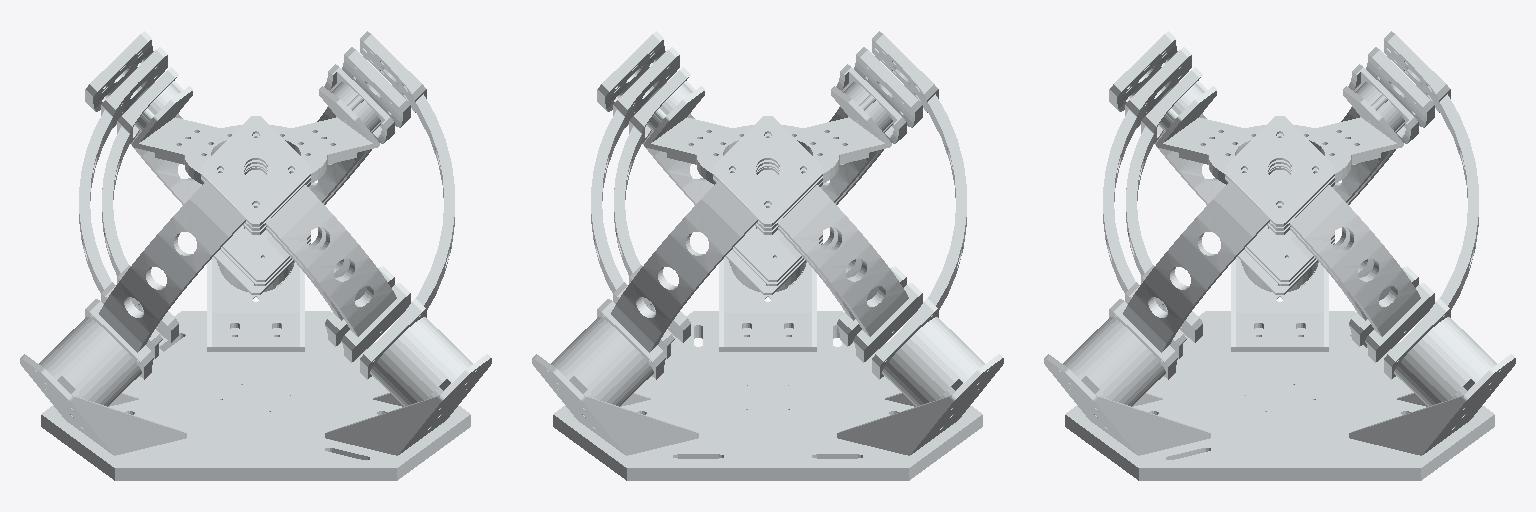
robot.urdf — Spherical_Parallel_urdf_2:
<?xml version="1.0" encoding="utf-8"?>
<!-- This URDF was automatically created by SolidWorks to URDF Exporter! Originally created by [author] ([email redacted]) 
     Commit Version: 1.6.0-4-g7f85cfe  Build Version: 1.6.7995.38578
     For more information, please see http://wiki.ros.org/sw_urdf_exporter -->
<robot
  name="Spherical_Parallel_urdf_2">
  <link
    name="base_link">
    <inertial>
      <origin
        xyz="-5.68297642564601E-06 9.84320252937487E-06 -0.0872774523069918"
        rpy="0 0 0" />
      <mass
        value="0.383954508133489" />
      <inertia
        ixx="0.000279103390586857"
        ixy="-3.02891552499976E-06"
        ixz="1.65209476752792E-17"
        iyy="0.000282600880973714"
        iyz="1.43034423383472E-16"
        izz="0.000538960992417047" />
    </inertial>
    <visual>
      <origin
        xyz="0 0 0"
        rpy="0 0 0" />
      <geometry>
        <mesh
          filename="package://Spherical_Parallel_urdf_2/meshes/base_link.STL" />
      </geometry>
      <material
        name="">
        <color
          rgba="0.898039215686275 0.917647058823529 0.929411764705882 1" />
      </material>
    </visual>
    <collision>
      <origin
        xyz="0 0 0"
        rpy="0 0 0" />
      <geometry>
        <mesh
          filename="package://Spherical_Parallel_urdf_2/meshes/base_link.STL" />
      </geometry>
    </collision>
  </link>
  <link
    name="motor-outer_1_Link">
    <inertial>
      <origin
        xyz="-0.0279702978737272 0.0279671136932665 0.0289452106202467"
        rpy="0 0 0" />
      <mass
        value="0.0355687201353505" />
      <inertia
        ixx="4.55330974036119E-05"
        ixy="1.39328327243376E-05"
        ixz="1.87351841361269E-05"
        iyy="4.55331004395391E-05"
        iyz="-1.87351839056134E-05"
        izz="3.20931896682085E-05" />
    </inertial>
    <visual>
      <origin
        xyz="0 0 0"
        rpy="0 0 0" />
      <geometry>
        <mesh
          filename="package://Spherical_Parallel_urdf_2/meshes/motor-outer_1_Link.STL" />
      </geometry>
      <material
        name="">
        <color
          rgba="0.898039215686275 0.917647058823529 0.929411764705882 1" />
      </material>
    </visual>
    <collision>
      <origin
        xyz="0 0 0"
        rpy="0 0 0" />
      <geometry>
        <mesh
          filename="package://Spherical_Parallel_urdf_2/meshes/motor-outer_1_Link.STL" />
      </geometry>
    </collision>
  </link>
  <joint
    name="motor-outer_1_joint"
    type="revolute">
    <origin
      xyz="-0.0569492112135548 0 -0.0604289433359291"
      rpy="0.955316618124508 0 1.5707963267949" />
    <parent
      link="base_link" />
    <child
      link="motor-outer_1_Link" />
    <axis
      xyz="0 0 -1" />
    <limit
      lower="0"
      upper="0"
      effort="0"
      velocity="0" />
  </joint>
  <link
    name="outer-middle_1_Link">
    <inertial>
      <origin
        xyz="0.00283636498049721 -0.0248626892784849 0.022301696540047"
        rpy="0 0 0" />
      <mass
        value="0.0723708688376402" />
      <inertia
        ixx="7.27702590863178E-05"
        ixy="4.74032426011922E-06"
        ixz="-7.64728524818734E-06"
        iyy="7.27911979741834E-05"
        iyz="2.98123690823537E-05"
        izz="5.34836998471512E-05" />
    </inertial>
    <visual>
      <origin
        xyz="0 0 0"
        rpy="0 0 0" />
      <geometry>
        <mesh
          filename="package://Spherical_Parallel_urdf_2/meshes/outer-middle_1_Link.STL" />
      </geometry>
      <material
        name="">
        <color
          rgba="0.752941176470588 0.752941176470588 0.752941176470588 1" />
      </material>
    </visual>
    <collision>
      <origin
        xyz="0 0 0"
        rpy="0 0 0" />
      <geometry>
        <mesh
          filename="package://Spherical_Parallel_urdf_2/meshes/outer-middle_1_Link.STL" />
      </geometry>
    </collision>
  </link>
  <joint
    name="outer-middle_1_joint"
    type="fixed">
    <origin
      xyz="-0.0436751198339819 0.0436152645408619 0.0697447702137679"
      rpy="1.5707963267949 0.785398163397447 0.78539816339745" />
    <parent
      link="motor-outer_1_Link" />
    <child
      link="outer-middle_1_Link" />
    <axis
      xyz="0 0 0" />
  </joint>
  <link
    name="middle-inner_1_Link">
    <inertial>
      <origin
        xyz="0.0242677966072107 0.0242591406201896 0.0202122616414055"
        rpy="0 0 0" />
      <mass
        value="0.0537220399932187" />
      <inertia
        ixx="4.61565737480677E-05"
        ixy="-1.25048330161379E-05"
        ixz="-1.83387735714732E-05"
        iyy="4.61717245910329E-05"
        iyz="-1.83239692401646E-05"
        izz="3.19211378815336E-05" />
    </inertial>
    <visual>
      <origin
        xyz="0 0 0"
        rpy="0 0 0" />
      <geometry>
        <mesh
          filename="package://Spherical_Parallel_urdf_2/meshes/middle-inner_1_Link.STL" />
      </geometry>
      <material
        name="">
        <color
          rgba="0.898039215686275 0.917647058823529 0.929411764705882 1" />
      </material>
    </visual>
    <collision>
      <origin
        xyz="0 0 0"
        rpy="0 0 0" />
      <geometry>
        <mesh
          filename="package://Spherical_Parallel_urdf_2/meshes/middle-inner_1_Link.STL" />
      </geometry>
    </collision>
  </link>
  <joint
    name="middle-inner_1_joint"
    type="revolute">
    <origin
      xyz="-0.037784044005556 -0.0377840491370093 0.0616819094932876"
      rpy="-1.5707963267949 0.785398163397451 -0.78539816339745" />
    <parent
      link="outer-middle_1_Link" />
    <child
      link="middle-inner_1_Link" />
    <axis
      xyz="0 0 1" />
    <limit
      lower="0"
      upper="0"
      effort="0"
      velocity="0" />
  </joint>
  <link
    name="inner_plain_1_Link">
    <inertial>
      <origin
        xyz="-0.0120772136557564 -0.00746773842422029 0.0292678804633679"
        rpy="0 0 0" />
      <mass
        value="0.050962086383897" />
      <inertia
        ixx="2.39433800182525E-05"
        ixy="-4.5045823118561E-06"
        ixz="7.24882819167433E-06"
        iyy="2.72515631273431E-05"
        iyz="5.01816774594607E-06"
        izz="1.94036063952986E-05" />
    </inertial>
    <visual>
      <origin
        xyz="0 0 0"
        rpy="0 0 0" />
      <geometry>
        <mesh
          filename="package://Spherical_Parallel_urdf_2/meshes/inner_plain_1_Link.STL" />
      </geometry>
      <material
        name="">
        <color
          rgba="0.898039215686275 0.917647058823529 0.929411764705882 1" />
      </material>
    </visual>
    <collision>
      <origin
        xyz="0 0 0"
        rpy="0 0 0" />
      <geometry>
        <mesh
          filename="package://Spherical_Parallel_urdf_2/meshes/inner_plain_1_Link.STL" />
      </geometry>
    </collision>
  </link>
  <joint
    name="inner_plain_1_joint"
    type="revolute">
    <origin
      xyz="0.0385044783159451 0.0385044810720595 0.0534747929012819"
      rpy="1.5707963267949 -0.785398163397449 -0.785398163397451" />
    <parent
      link="middle-inner_1_Link" />
    <child
      link="inner_plain_1_Link" />
    <axis
      xyz="0 0 1" />
    <limit
      lower="0"
      upper="0"
      effort="0"
      velocity="0" />
  </joint>
  <link
    name="motor-outer_2_Link">
    <inertial>
      <origin
        xyz="-0.0279729721249746 0.0279669074734735 0.0289452252977078"
        rpy="0 0 0" />
      <mass
        value="0.0355687278615816" />
      <inertia
        ixx="4.55331004955151E-05"
        ixy="1.3932833427438E-05"
        ixz="1.87351801783838E-05"
        iyy="4.55331035823945E-05"
        iyz="-1.87351909884961E-05"
        izz="3.20931921783928E-05" />
    </inertial>
    <visual>
      <origin
        xyz="0 0 0"
        rpy="0 0 0" />
      <geometry>
        <mesh
          filename="package://Spherical_Parallel_urdf_2/meshes/motor-outer_2_Link.STL" />
      </geometry>
      <material
        name="">
        <color
          rgba="0.898039215686275 0.917647058823529 0.929411764705882 1" />
      </material>
    </visual>
    <collision>
      <origin
        xyz="0 0 0"
        rpy="0 0 0" />
      <geometry>
        <mesh
          filename="package://Spherical_Parallel_urdf_2/meshes/motor-outer_2_Link.STL" />
      </geometry>
    </collision>
  </link>
  <joint
    name="motor-outer_2_joint"
    type="revolute">
    <origin
      xyz="0.028473875650204 -0.0493200339357943 -0.0604287610219433"
      rpy="0.955316618124507 0 -2.6179938779915" />
    <parent
      link="base_link" />
    <child
      link="motor-outer_2_Link" />
    <axis
      xyz="0 0 -1" />
    <limit
      lower="0"
      upper="0"
      effort="0"
      velocity="0" />
  </joint>
  <link
    name="outer-middle_2_Link">
    <inertial>
      <origin
        xyz="0.00283637152699381 -0.0248626991281976 0.0223016909464008"
        rpy="0 0 0" />
      <mass
        value="0.072370813478773" />
      <inertia
        ixx="7.2770262104839E-05"
        ixy="4.74032910672147E-06"
        ixz="-7.64729389425127E-06"
        iyy="7.27911814454562E-05"
        iyz="2.98123634953447E-05"
        izz="5.34836949402528E-05" />
    </inertial>
    <visual>
      <origin
        xyz="0 0 0"
        rpy="0 0 0" />
      <geometry>
        <mesh
          filename="package://Spherical_Parallel_urdf_2/meshes/outer-middle_2_Link.STL" />
      </geometry>
      <material
        name="">
        <color
          rgba="0.752941176470588 0.752941176470588 0.752941176470588 1" />
      </material>
    </visual>
    <collision>
      <origin
        xyz="0 0 0"
        rpy="0 0 0" />
      <geometry>
        <mesh
          filename="package://Spherical_Parallel_urdf_2/meshes/outer-middle_2_Link.STL" />
      </geometry>
    </collision>
  </link>
  <joint
    name="outer-middle_2_joint"
    type="fixed">
    <origin
      xyz="-0.0436777957822839 0.0436150412527428 0.0697447702137679"
      rpy="1.5707963267949 0.785398163397447 0.78539816339745" />
    <parent
      link="motor-outer_2_Link" />
    <child
      link="outer-middle_2_Link" />
    <axis
      xyz="0 0 0" />
  </joint>
  <link
    name="middle-inner_2_Link">
    <inertial>
      <origin
        xyz="0.0242678162545969 0.0242591610252519 0.0202122277232754"
        rpy="0 0 0" />
      <mass
        value="0.0537219117327938" />
      <inertia
        ixx="4.61565596382255E-05"
        ixy="-1.25048305893608E-05"
        ixz="-1.83387620030521E-05"
        iyy="4.61717132145038E-05"
        iyz="-1.83239606740939E-05"
        izz="3.19211369887463E-05" />
    </inertial>
    <visual>
      <origin
        xyz="0 0 0"
        rpy="0 0 0" />
      <geometry>
        <mesh
          filename="package://Spherical_Parallel_urdf_2/meshes/middle-inner_2_Link.STL" />
      </geometry>
      <material
        name="">
        <color
          rgba="0.898039215686275 0.917647058823529 0.929411764705882 1" />
      </material>
    </visual>
    <collision>
      <origin
        xyz="0 0 0"
        rpy="0 0 0" />
      <geometry>
        <mesh
          filename="package://Spherical_Parallel_urdf_2/meshes/middle-inner_2_Link.STL" />
      </geometry>
    </collision>
  </link>
  <joint
    name="middle-inner_2_joint"
    type="fixed">
    <origin
      xyz="-0.0377840440055561 -0.0377840491370094 0.0616819094932874"
      rpy="-1.57079632679489 0.785398163397451 -0.785398163397448" />
    <parent
      link="outer-middle_2_Link" />
    <child
      link="middle-inner_2_Link" />
    <axis
      xyz="0 0 0" />
  </joint>
  <link
    name="inner_plain_2_Link">
    <inertial>
      <origin
        xyz="-0.0178911006302322 -0.0180827655622391 0.0220852084967802"
        rpy="0 0 0" />
      <mass
        value="0.0344013731644494" />
      <inertia
        ixx="1.91655002497393E-05"
        ixy="-4.50457936472298E-06"
        ixz="7.24882615628043E-06"
        iyy="1.93158088986789E-05"
        iyz="7.25111806781674E-06"
        izz="1.30467845124187E-05" />
    </inertial>
    <visual>
      <origin
        xyz="0 0 0"
        rpy="0 0 0" />
      <geometry>
        <mesh
          filename="package://Spherical_Parallel_urdf_2/meshes/inner_plain_2_Link.STL" />
      </geometry>
      <material
        name="">
        <color
          rgba="0.898039215686275 0.917647058823529 0.929411764705882 1" />
      </material>
    </visual>
    <collision>
      <origin
        xyz="0 0 0"
        rpy="0 0 0" />
      <geometry>
        <mesh
          filename="package://Spherical_Parallel_urdf_2/meshes/inner_plain_2_Link.STL" />
      </geometry>
    </collision>
  </link>
  <joint
    name="inner_plain_2_joint"
    type="revolute">
    <origin
      xyz="0.0385044783159451 0.0385044810720595 0.0534747929012819"
      rpy="1.5707963267949 -0.785398163397452 -0.785398163397452" />
    <parent
      link="middle-inner_2_Link" />
    <child
      link="inner_plain_2_Link" />
    <axis
      xyz="0 0 1" />
    <limit
      lower="0"
      upper="0"
      effort="0"
      velocity="0" />
  </joint>
  <link
    name="motor-outer_3_Link">
    <inertial>
      <origin
        xyz="-0.0279689954412745 0.0279678007969999 0.0289453250456972"
        rpy="0 0 0" />
      <mass
        value="0.0355688883869037" />
      <inertia
        ixx="4.55332282820766E-05"
        ixy="1.39328598781321E-05"
        ixz="1.8735232058745E-05"
        iyy="4.55332302096579E-05"
        iyz="-1.87352366933611E-05"
        izz="3.2093250462926E-05" />
    </inertial>
    <visual>
      <origin
        xyz="0 0 0"
        rpy="0 0 0" />
      <geometry>
        <mesh
          filename="package://Spherical_Parallel_urdf_2/meshes/motor-outer_3_Link.STL" />
      </geometry>
      <material
        name="">
        <color
          rgba="0.898039215686275 0.917647058823529 0.929411764705882 1" />
      </material>
    </visual>
    <collision>
      <origin
        xyz="0 0 0"
        rpy="0 0 0" />
      <geometry>
        <mesh
          filename="package://Spherical_Parallel_urdf_2/meshes/motor-outer_3_Link.STL" />
      </geometry>
    </collision>
  </link>
  <joint
    name="motor-outer_3_joint"
    type="revolute">
    <origin
      xyz="0.0284717627888447 0.0493206513554347 -0.0604294988589999"
      rpy="0.955316618124509 0 -0.523598775598302" />
    <parent
      link="base_link" />
    <child
      link="motor-outer_3_Link" />
    <axis
      xyz="0 0 -1" />
    <limit
      lower="0"
      upper="0"
      effort="0"
      velocity="0" />
  </joint>
  <link
    name="outer-middle_3_Link">
    <inertial>
      <origin
        xyz="0.00283639513450727 -0.024862679478574 0.0223016973587668"
        rpy="0 0 0" />
      <mass
        value="0.0723709631846191" />
      <inertia
        ixx="7.27703613594132E-05"
        ixy="4.74037498942759E-06"
        ixz="-7.64734243981667E-06"
        iyy="7.27912955035742E-05"
        iyz="2.98124138002551E-05"
        izz="5.34837990510186E-05" />
    </inertial>
    <visual>
      <origin
        xyz="0 0 0"
        rpy="0 0 0" />
      <geometry>
        <mesh
          filename="package://Spherical_Parallel_urdf_2/meshes/outer-middle_3_Link.STL" />
      </geometry>
      <material
        name="">
        <color
          rgba="0.752941176470588 0.752941176470588 0.752941176470588 1" />
      </material>
    </visual>
    <collision>
      <origin
        xyz="0 0 0"
        rpy="0 0 0" />
      <geometry>
        <mesh
          filename="package://Spherical_Parallel_urdf_2/meshes/outer-middle_3_Link.STL" />
      </geometry>
    </collision>
  </link>
  <joint
    name="outer-middle_3_joint"
    type="fixed">
    <origin
      xyz="-0.0436738226596096 0.0436159449148936 0.0697447702137679"
      rpy="1.5707963267949 0.78539816339745 0.785398163397452" />
    <parent
      link="motor-outer_3_Link" />
    <child
      link="outer-middle_3_Link" />
    <axis
      xyz="0 0 0" />
  </joint>
  <link
    name="middle-inner_3_Link">
    <inertial>
      <origin
        xyz="-0.023487516270212 -0.0234961822372678 0.0273681611099788"
        rpy="0 0 0" />
      <mass
        value="0.0537219139217171" />
      <inertia
        ixx="4.52845800836751E-05"
        ixy="-1.33739172365279E-05"
        ixz="1.83367159149404E-05"
        iyy="4.5305518462869E-05"
        iyz="1.83260058700211E-05"
        izz="3.36593086628823E-05" />
    </inertial>
    <visual>
      <origin
        xyz="0 0 0"
        rpy="0 0 0" />
      <geometry>
        <mesh
          filename="package://Spherical_Parallel_urdf_2/meshes/middle-inner_3_Link.STL" />
      </geometry>
      <material
        name="">
        <color
          rgba="0.898039215686275 0.917647058823529 0.929411764705882 1" />
      </material>
    </visual>
    <collision>
      <origin
        xyz="0 0 0"
        rpy="0 0 0" />
      <geometry>
        <mesh
          filename="package://Spherical_Parallel_urdf_2/meshes/middle-inner_3_Link.STL" />
      </geometry>
    </collision>
  </link>
  <joint
    name="middle-inner_3_Link"
    type="fixed">
    <origin
      xyz="0 0 0"
      rpy="0 0 0" />
    <parent
      link="outer-middle_3_Link" />
    <child
      link="middle-inner_3_Link" />
    <axis
      xyz="0 0 0" />
  </joint>
  <link
    name="inner_plain_3_Link">
    <inertial>
      <origin
        xyz="-0.017891103998276 -0.018082772134384 0.0220852120971374"
        rpy="0 0 0" />
      <mass
        value="0.0344013861728489" />
      <inertia
        ixx="1.9165496801016E-05"
        ixy="-4.50457978393068E-06"
        ixz="7.24882329720104E-06"
        iyy="1.93158055189223E-05"
        iyz="7.25111909511414E-06"
        izz="1.30467839837496E-05" />
    </inertial>
    <visual>
      <origin
        xyz="0 0 0"
        rpy="0 0 0" />
      <geometry>
        <mesh
          filename="package://Spherical_Parallel_urdf_2/meshes/inner_plain_3_Link.STL" />
      </geometry>
      <material
        name="">
        <color
          rgba="0.898039215686275 0.917647058823529 0.929411764705882 1" />
      </material>
    </visual>
    <collision>
      <origin
        xyz="0 0 0"
        rpy="0 0 0" />
      <geometry>
        <mesh
          filename="package://Spherical_Parallel_urdf_2/meshes/inner_plain_3_Link.STL" />
      </geometry>
    </collision>
  </link>
  <joint
    name="inner_plain_3_joint"
    type="revolute">
    <origin
      xyz="2.834329942961E-05 2.83409240907223E-05 0.0072283520979101"
      rpy="0 0 0" />
    <parent
      link="middle-inner_3_Link" />
    <child
      link="inner_plain_3_Link" />
    <axis
      xyz="0 0 1" />
    <limit
      lower="0"
      upper="0"
      effort="0"
      velocity="0" />
  </joint>
</robot>

--- Facts derived from the render (not from the file) ---
3 views of the same robot in one strip: view 1: azimuth 30°, elevation 25°; view 2: azimuth 150°, elevation 25°; view 3: azimuth 270°, elevation 25° (orthographic).
Robot: Spherical_Parallel_urdf_2 — 13 links, 12 joints (7 revolute, 5 fixed); root link base_link; default pose: all joints at 0.
Visible links, largest first — view 1: base_link, motor-outer_1_Link, middle-inner_1_Link, middle-inner_3_Link, motor-outer_2_Link, middle-inner_2_Link, inner_plain_3_Link, inner_plain_2_Link, motor-outer_3_Link, inner_plain_1_Link; view 2: base_link, motor-outer_3_Link, middle-inner_3_Link, inner_plain_1_Link, middle-inner_2_Link, motor-outer_1_Link, middle-inner_1_Link, inner_plain_2_Link, motor-outer_2_Link, inner_plain_3_Link; view 3: base_link, motor-outer_2_Link, middle-inner_2_Link, middle-inner_1_Link, inner_plain_1_Link, motor-outer_3_Link, middle-inner_3_Link, inner_plain_3_Link, motor-outer_1_Link, inner_plain_2_Link.
Boxes of the visible links, x1=… form: base_link: x1=20, y1=257, x2=491, y2=480; motor-outer_1_Link: x1=85, y1=116, x2=310, y2=379; middle-inner_1_Link: x1=201, y1=133, x2=410, y2=362; middle-inner_3_Link: x1=79, y1=47, x2=178, y2=358; motor-outer_2_Link: x1=360, y1=31, x2=454, y2=379; middle-inner_2_Link: x1=220, y1=47, x2=410, y2=285; inner_plain_3_Link: x1=102, y1=70, x2=219, y2=340; inner_plain_2_Link: x1=223, y1=64, x2=391, y2=281; motor-outer_3_Link: x1=85, y1=31, x2=310, y2=294; inner_plain_1_Link: x1=155, y1=125, x2=394, y2=346; base_link: x1=532, y1=257, x2=1003, y2=480; motor-outer_3_Link: x1=597, y1=116, x2=822, y2=379; middle-inner_3_Link: x1=713, y1=133, x2=922, y2=362; inner_plain_1_Link: x1=667, y1=64, x2=906, y2=281; middle-inner_2_Link: x1=591, y1=47, x2=690, y2=358; motor-outer_1_Link: x1=872, y1=31, x2=966, y2=379; middle-inner_1_Link: x1=732, y1=47, x2=922, y2=285; inner_plain_2_Link: x1=614, y1=70, x2=731, y2=341; motor-outer_2_Link: x1=597, y1=31, x2=822, y2=294; inner_plain_3_Link: x1=755, y1=167, x2=906, y2=345; base_link: x1=1044, y1=257, x2=1515, y2=480; motor-outer_2_Link: x1=1109, y1=116, x2=1334, y2=379; middle-inner_2_Link: x1=1225, y1=133, x2=1434, y2=362; middle-inner_1_Link: x1=1103, y1=47, x2=1202, y2=358; inner_plain_1_Link: x1=1126, y1=70, x2=1380, y2=342; motor-outer_3_Link: x1=1384, y1=31, x2=1478, y2=379; middle-inner_3_Link: x1=1244, y1=47, x2=1434, y2=285; inner_plain_3_Link: x1=1247, y1=72, x2=1417, y2=281; motor-outer_1_Link: x1=1109, y1=31, x2=1334, y2=294; inner_plain_2_Link: x1=1244, y1=165, x2=1418, y2=343.
Size in the robot's own frame: 0.1635 by 0.1695 by 0.1389 metres.
10 mesh visuals loaded from 13 distinct referenced files (10 binary STL); not drawn: 3 (file found but could not be loaded).